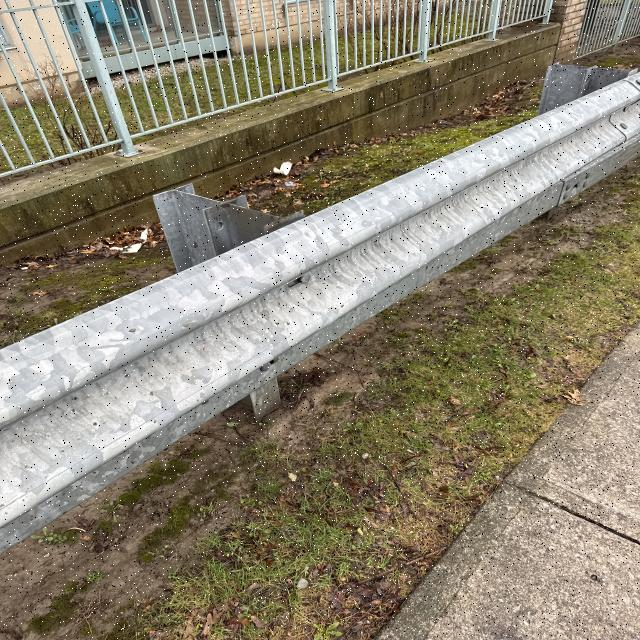Guard rail: (131, 83, 638, 339)
